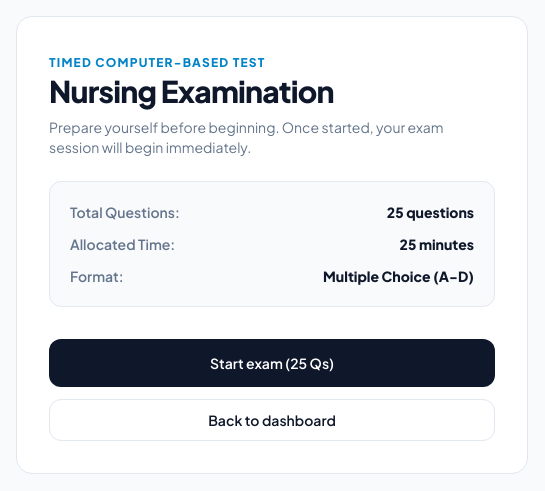
ExamPage component › shows friendly "No questions are available for your level yet" screen when NO_QUESTIONS_FOR_LEVEL error occurs
Click the button "Start exam (25 Qs)" at (272, 363), box [49,339,495,387]
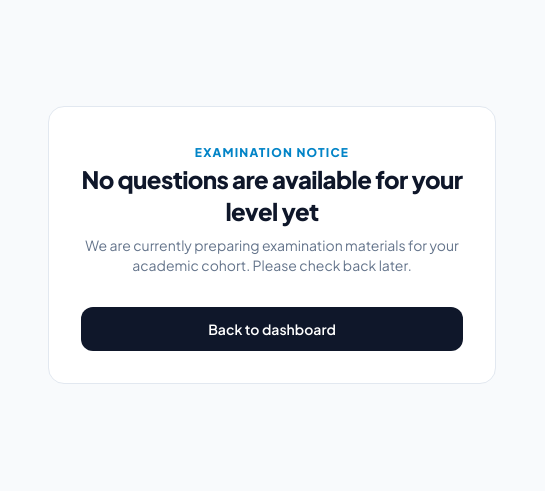
Expected: the link "Back to dashboard" is shown, [81,307,463,351]
Expected: the heading "No questions are available for your level yet" is shown, [81,163,463,227]
